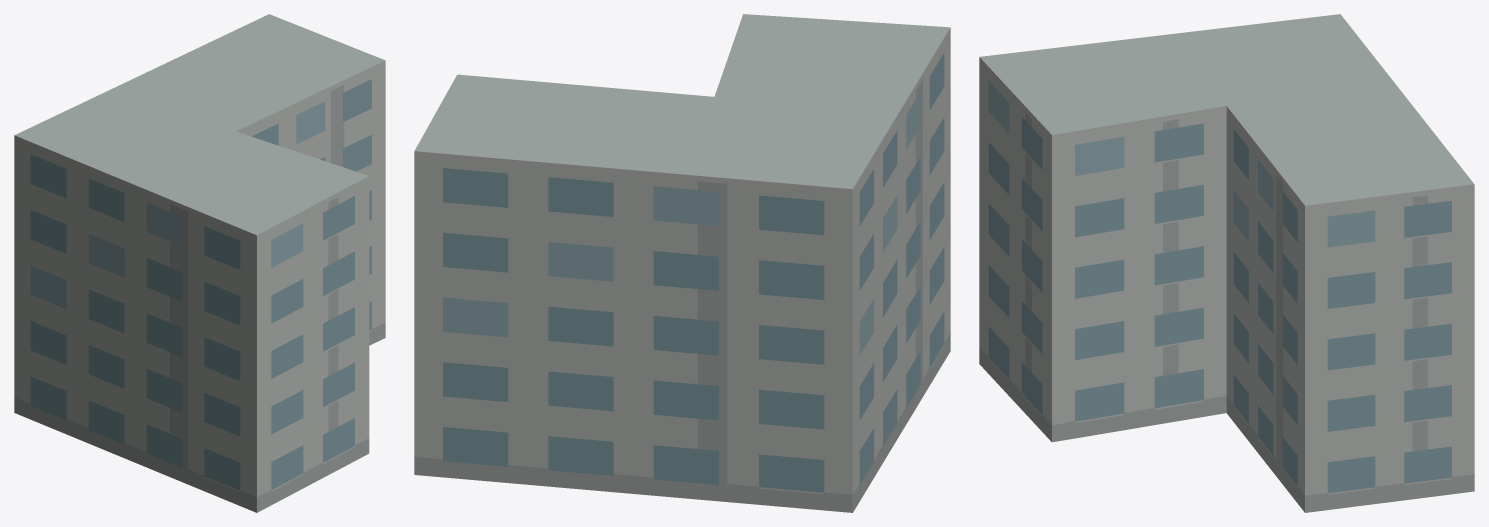
File: survey-upis-32947272.glb
3 views of the same model, side by side, from view 1: azimuth 30°, elevation 25°; view 2: azimuth 150°, elevation 25°; view 3: azimuth 270°, elevation 25° (orthographic). The views are drawn at different scales.
Parts seen in each view (by area): view 1: survey-upis-32947272.tmp; view 2: survey-upis-32947272.tmp; view 3: survey-upis-32947272.tmp.
Part boxes in pixels (<box>): survey-upis-32947272.tmp: <box>14,14,385,512</box>; survey-upis-32947272.tmp: <box>414,14,950,512</box>; survey-upis-32947272.tmp: <box>979,14,1474,512</box>.
Bounding box in the file's own units: 19.16 × 14.3 × 20.9.
